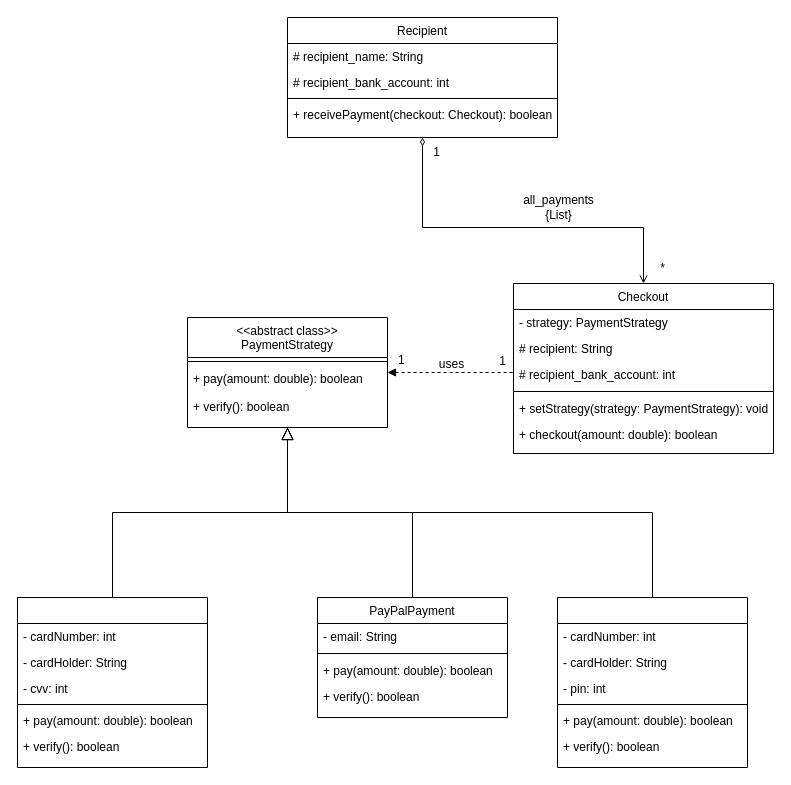
This 791x785 diagram has some shape labels left out. The shapes that lost their labels are listed below. From the top down, each one's box as (x1, y1, x2, y2) in pixels, then its label:
(16, 596, 208, 768): CreditCardPayment
(556, 596, 748, 768): DebitCardPayment
